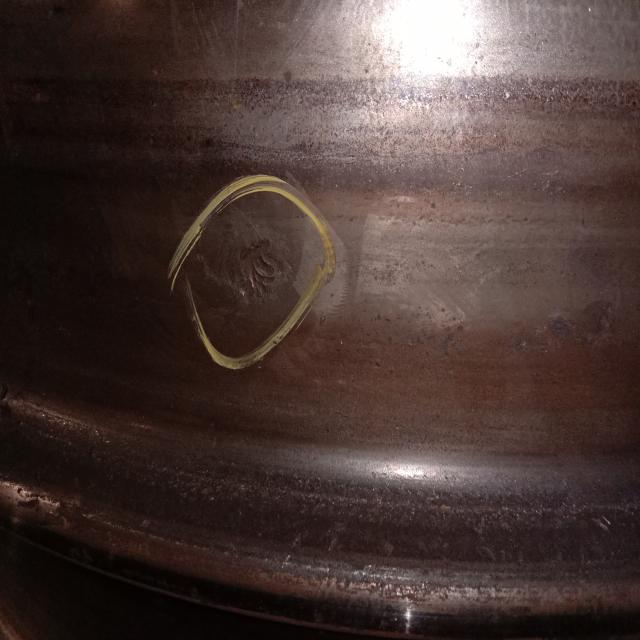Blue hole: (227, 226, 293, 313)
